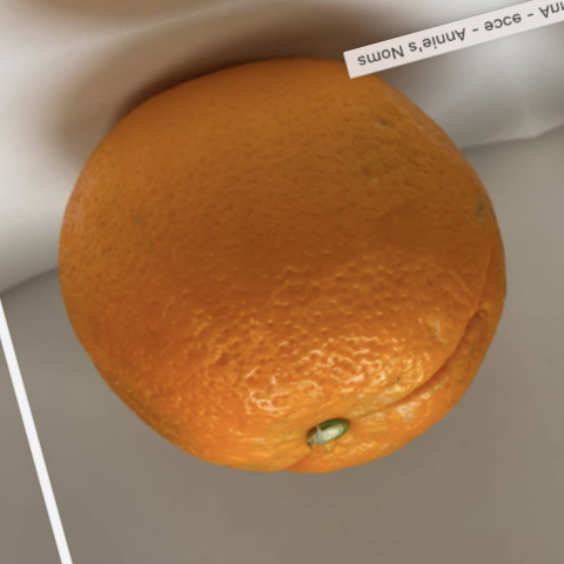orange: (0, 0, 564, 560)
